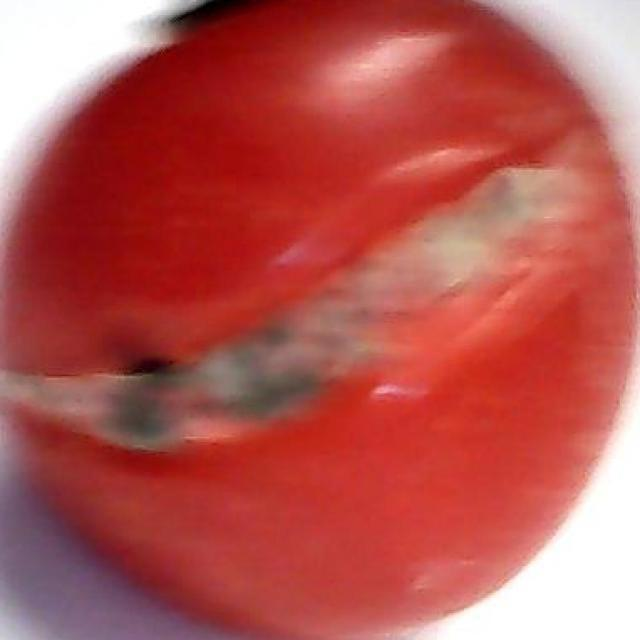Cracking Fruit: (0, 96, 407, 309)
